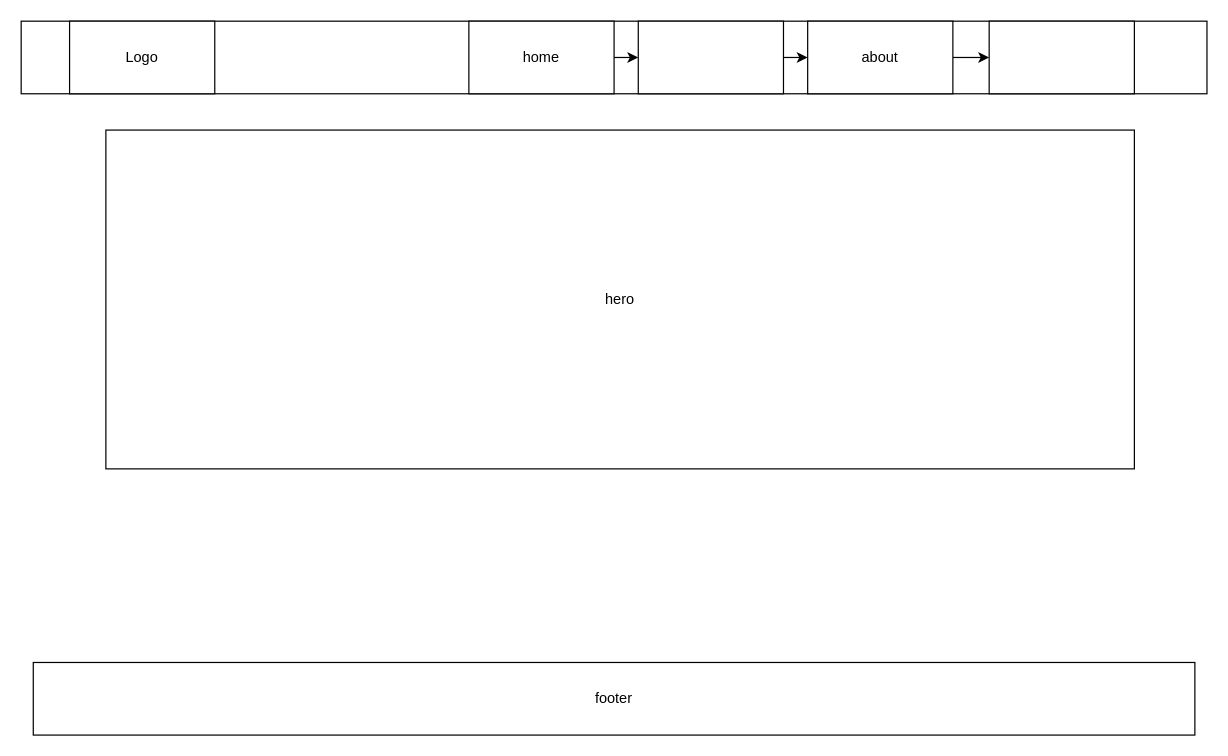
Some shapes in this 1228 by 756 pixel diagram are drawn without their labels. The shapes that lost their labels are listed below. From the top down, each one's centre as x and y in pixels, then its label:
the point at 710,57: products
the point at 1061,57: contact
